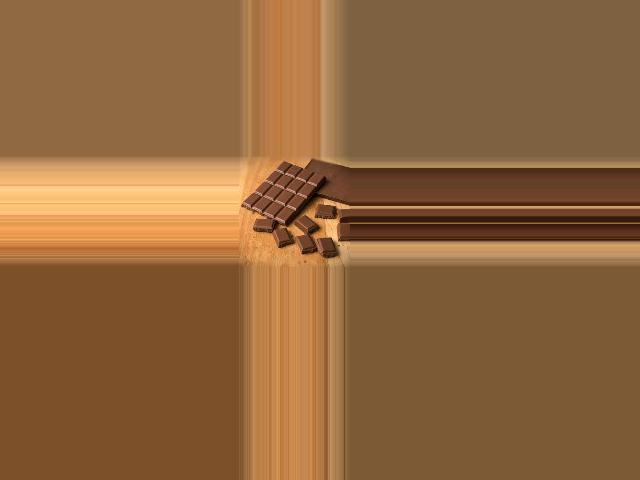chocolate: (244, 161, 325, 229)
